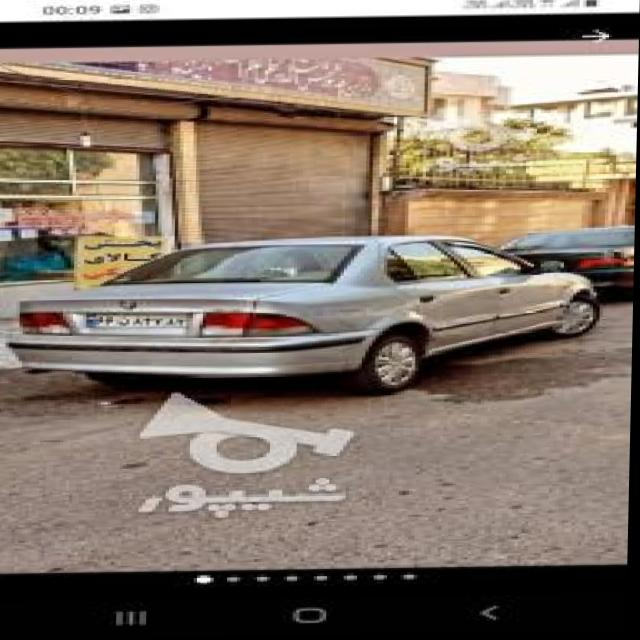licence: (74, 310, 198, 329)
